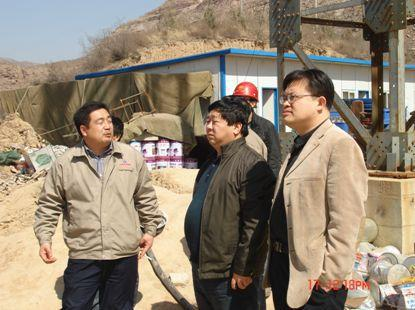head: (280, 66, 333, 134), (205, 93, 249, 150), (73, 99, 116, 149)
helmet: (233, 80, 261, 120)
